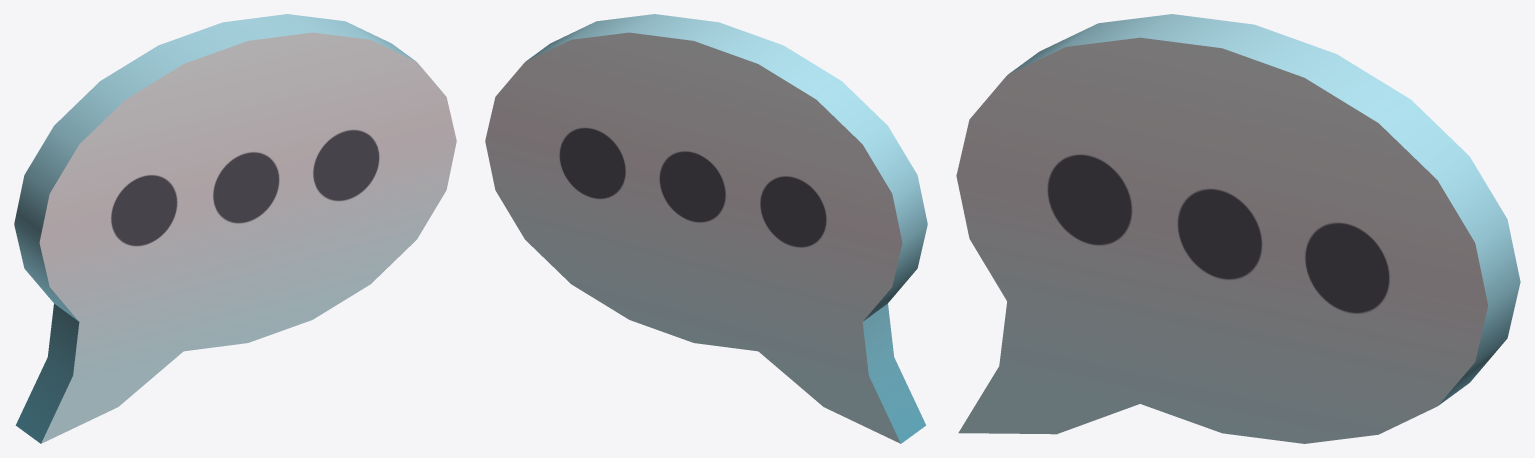
Rendered from Cloud.fbx.
The picture shows the model from 3 angles, left to right: view 1: azimuth 30°, elevation 25°; view 2: azimuth 150°, elevation 25°; view 3: azimuth 330°, elevation 25°; orthographic projection. The views are drawn at different scales.
Visible parts, largest first — view 1: Cloud; view 2: Cloud; view 3: Cloud.
Boxes of the visible parts, <box> form: Cloud: <box>14,14,456,443</box>; Cloud: <box>485,14,927,443</box>; Cloud: <box>956,14,1520,443</box>.
Size of the model in its own units: 204 by 165 by 21.46.
